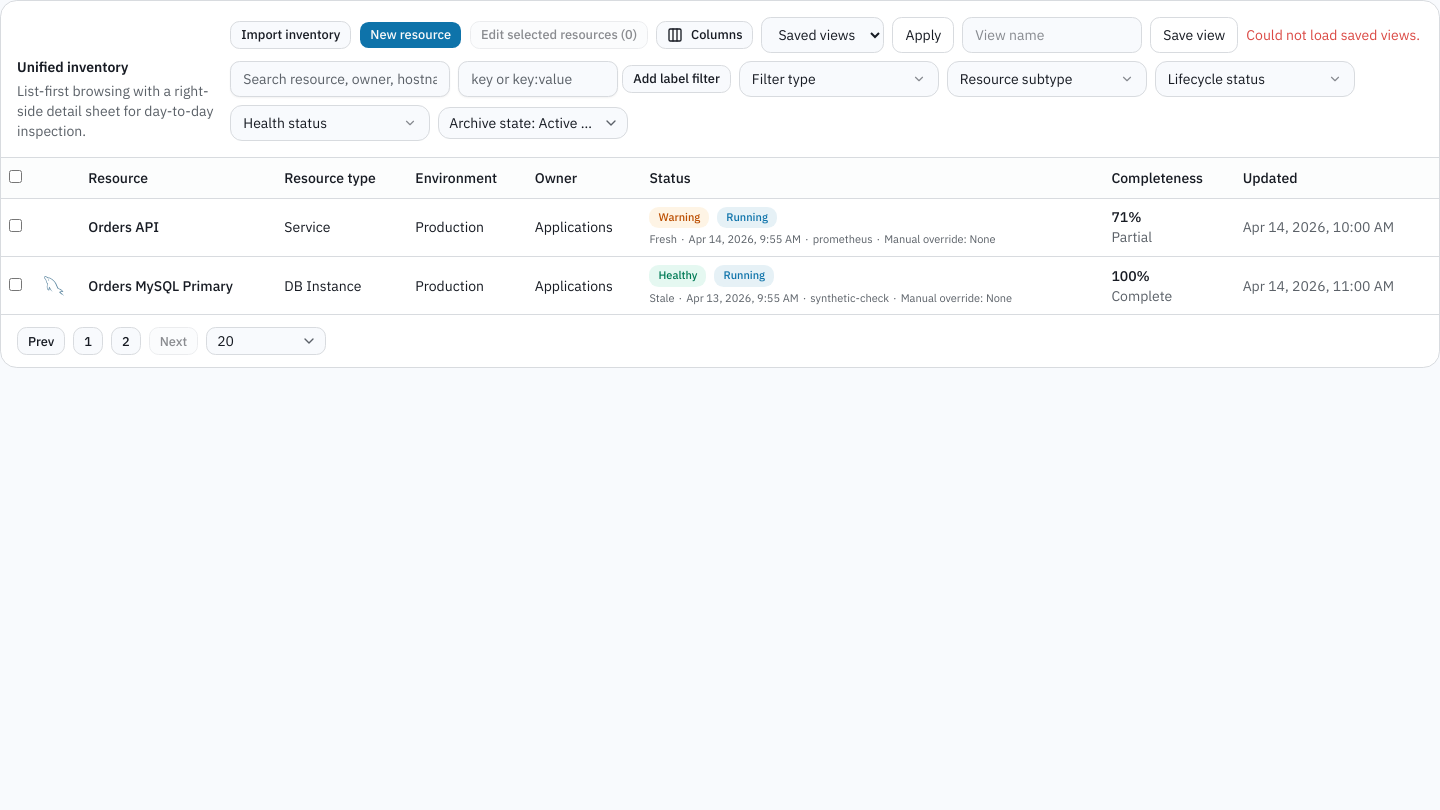
it: ResourceTable › uses localized preview feedback instead of a backend error message
The width and height of the screenshot is (1440, 810).
Step 1. Click the checkbox named "Select Orders API" → click(16, 226), box 9,219 -> 22,232
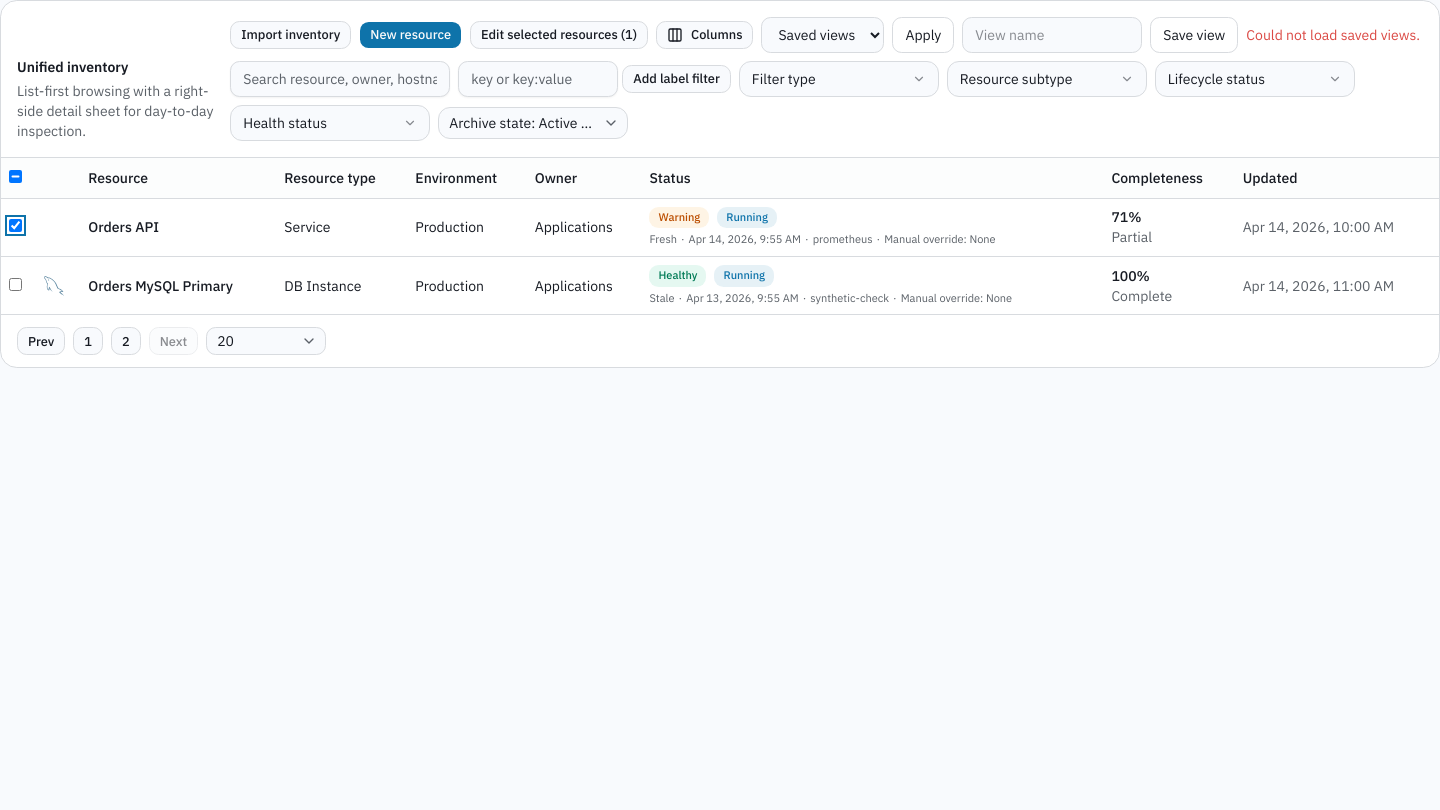
Step 2. Click the button "Edit selected resources (1)" → click(559, 35), box 470,21 -> 648,49
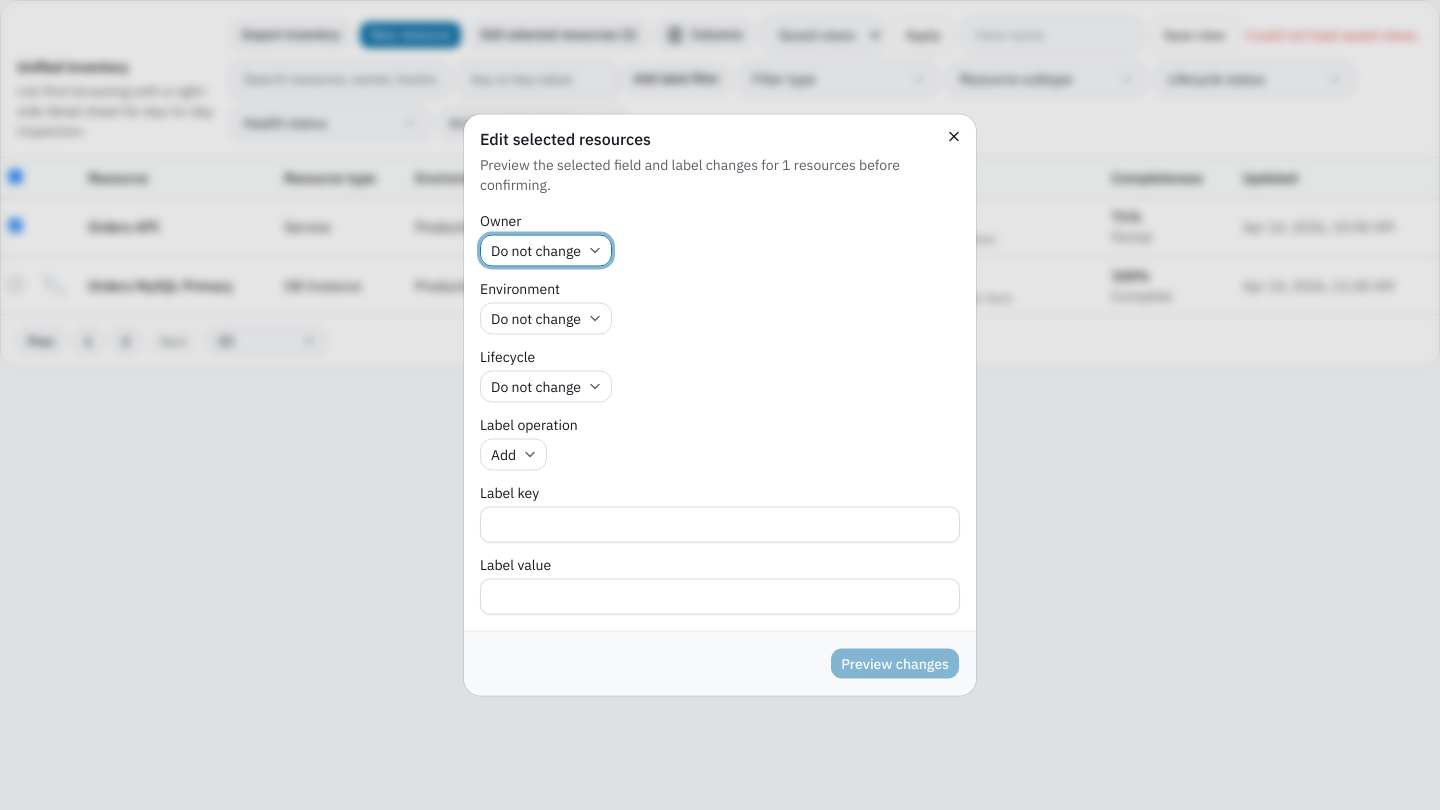
Step 3. Type "team" into the field labelled "Label key" → (720, 524), box 480,506 -> 960,542
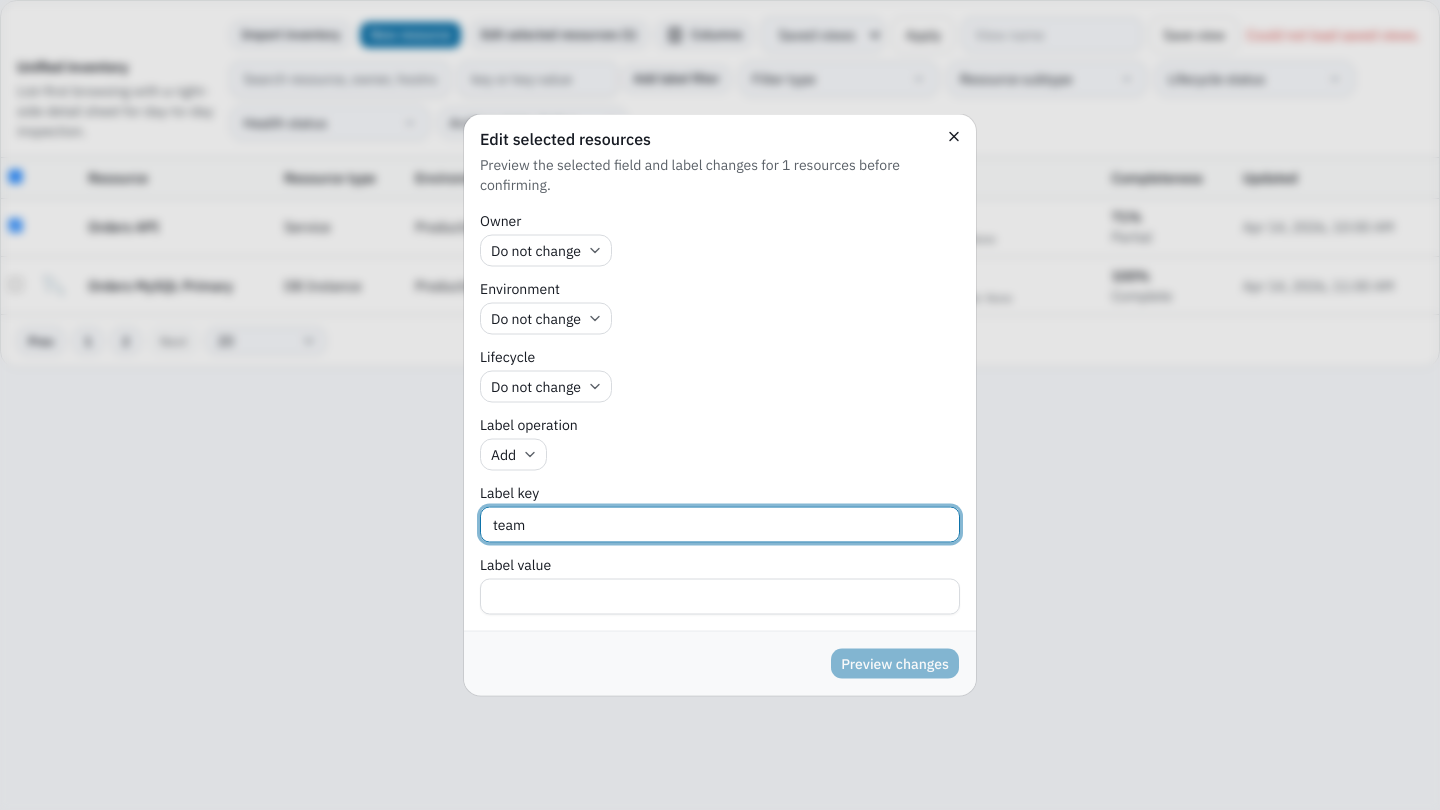
Step 4. Type "platform" into the field labelled "Label value" → (720, 596), box 480,578 -> 960,614
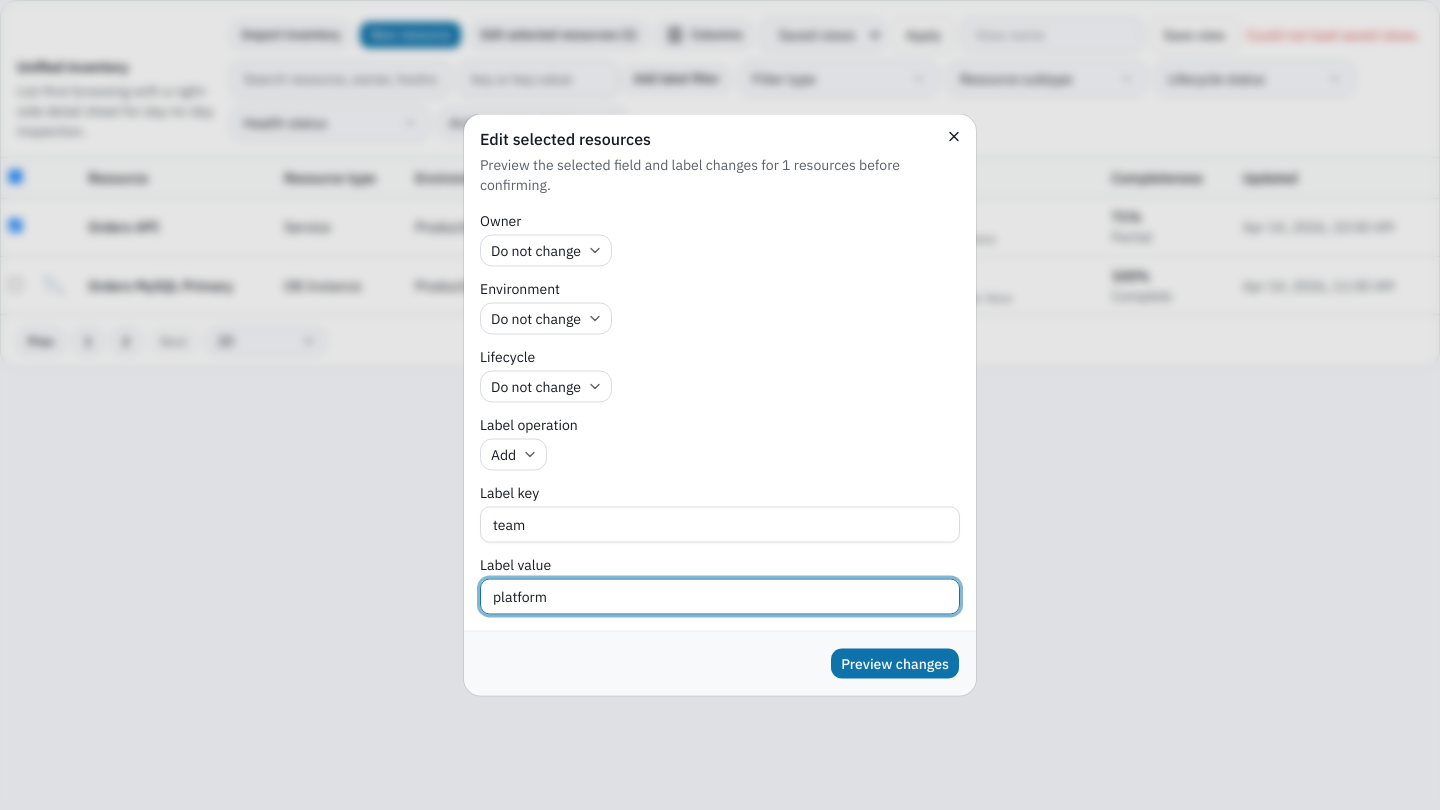
Step 5. Click the button "Preview changes" → click(895, 664), box 830,648 -> 960,680
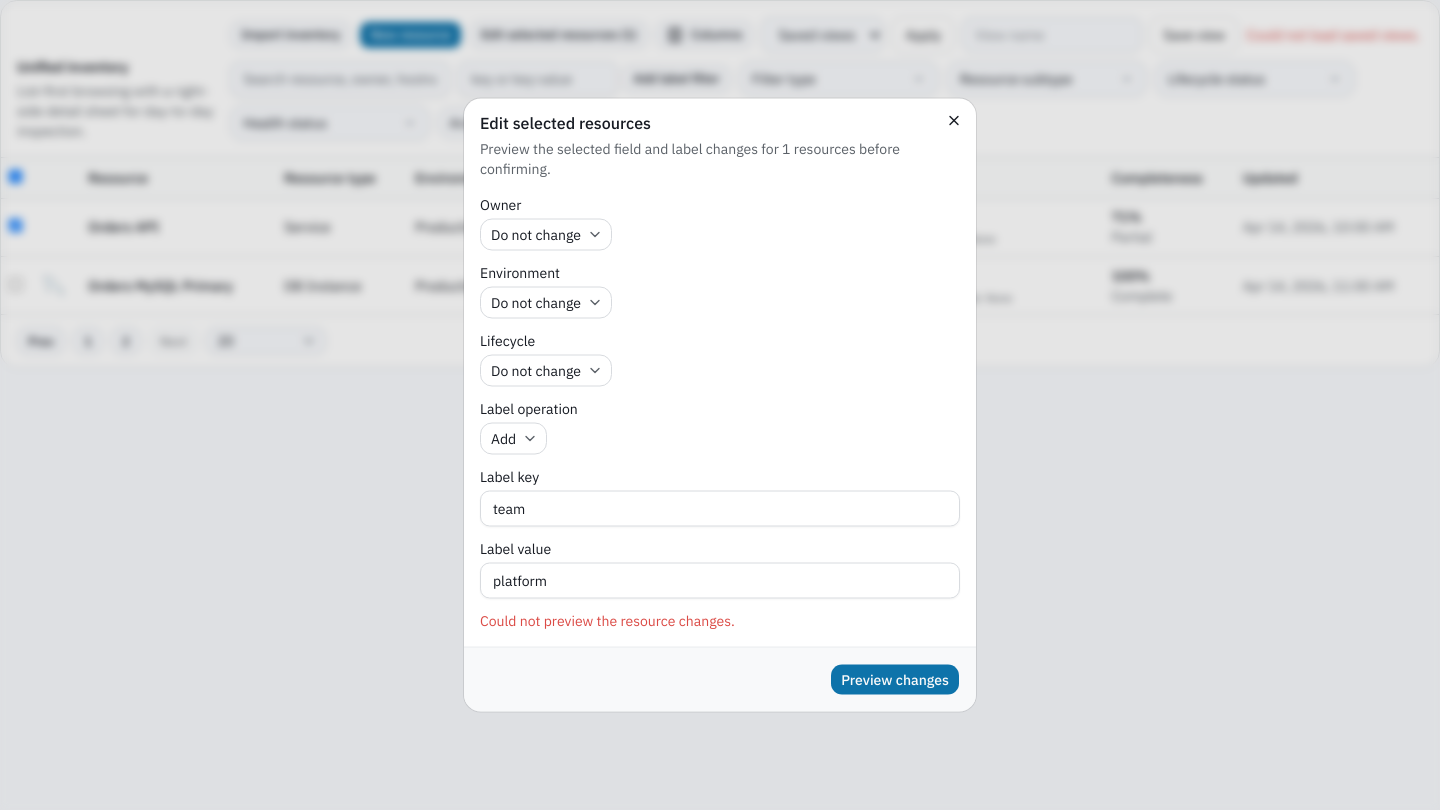
Result: the text "Could not preview the resource changes." is shown at 480,612 -> 735,630
